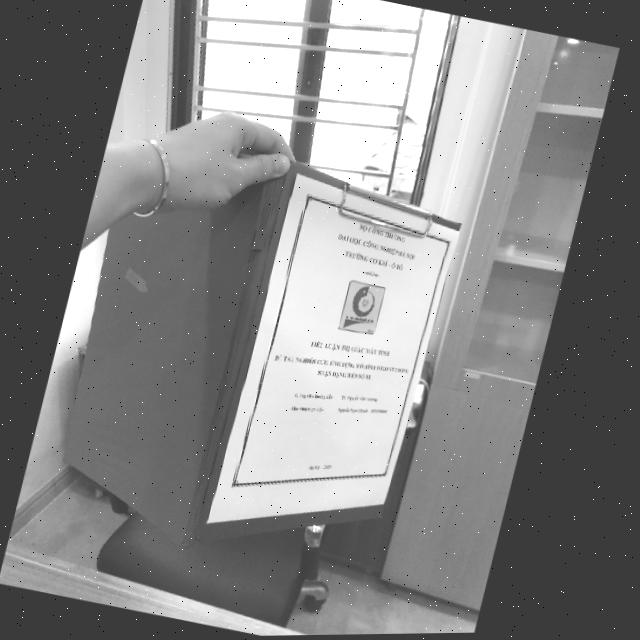document: (206, 173, 459, 523)
